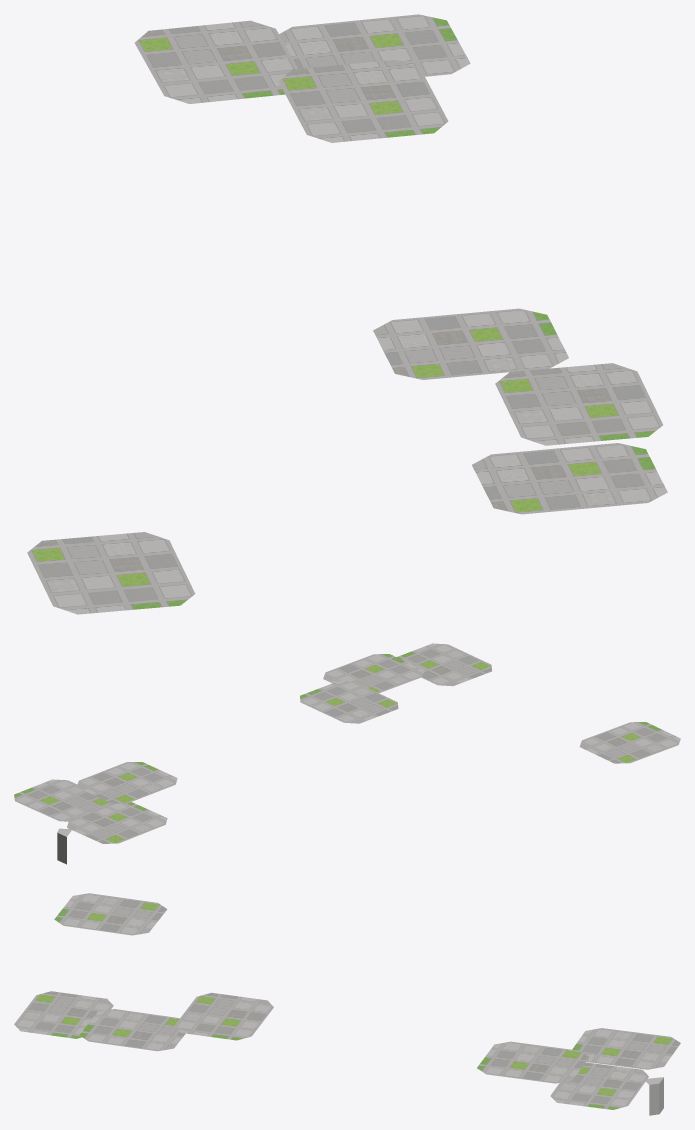
File: kd_connection_world-inner_surface_17_0.glb
The picture shows the model from 3 angles, top to bottom: view 1: azimuth 30°, elevation 25°; view 2: azimuth 150°, elevation 25°; view 3: azimuth 270°, elevation 25°; orthographic projection. The views are drawn at different scales.
Visible parts, largest first — view 1: kd_connection_world-inner_surface_17_0; view 2: kd_connection_world-inner_surface_17_0; view 3: kd_connection_world-inner_surface_17_0.
Part boxes in pixels (x1,y1,x2,y2): kd_connection_world-inner_surface_17_0: [27, 14, 667, 614]; kd_connection_world-inner_surface_17_0: [14, 643, 680, 864]; kd_connection_world-inner_surface_17_0: [14, 893, 680, 1115].
Size of the model in its own units: 615 by 53.88 by 735.
Materials: 1 (1 with a texture image).
